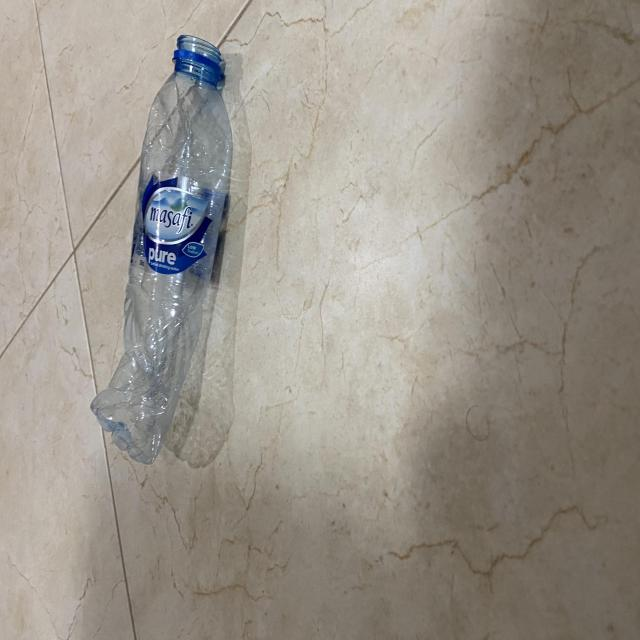bottle: (82, 30, 236, 468)
